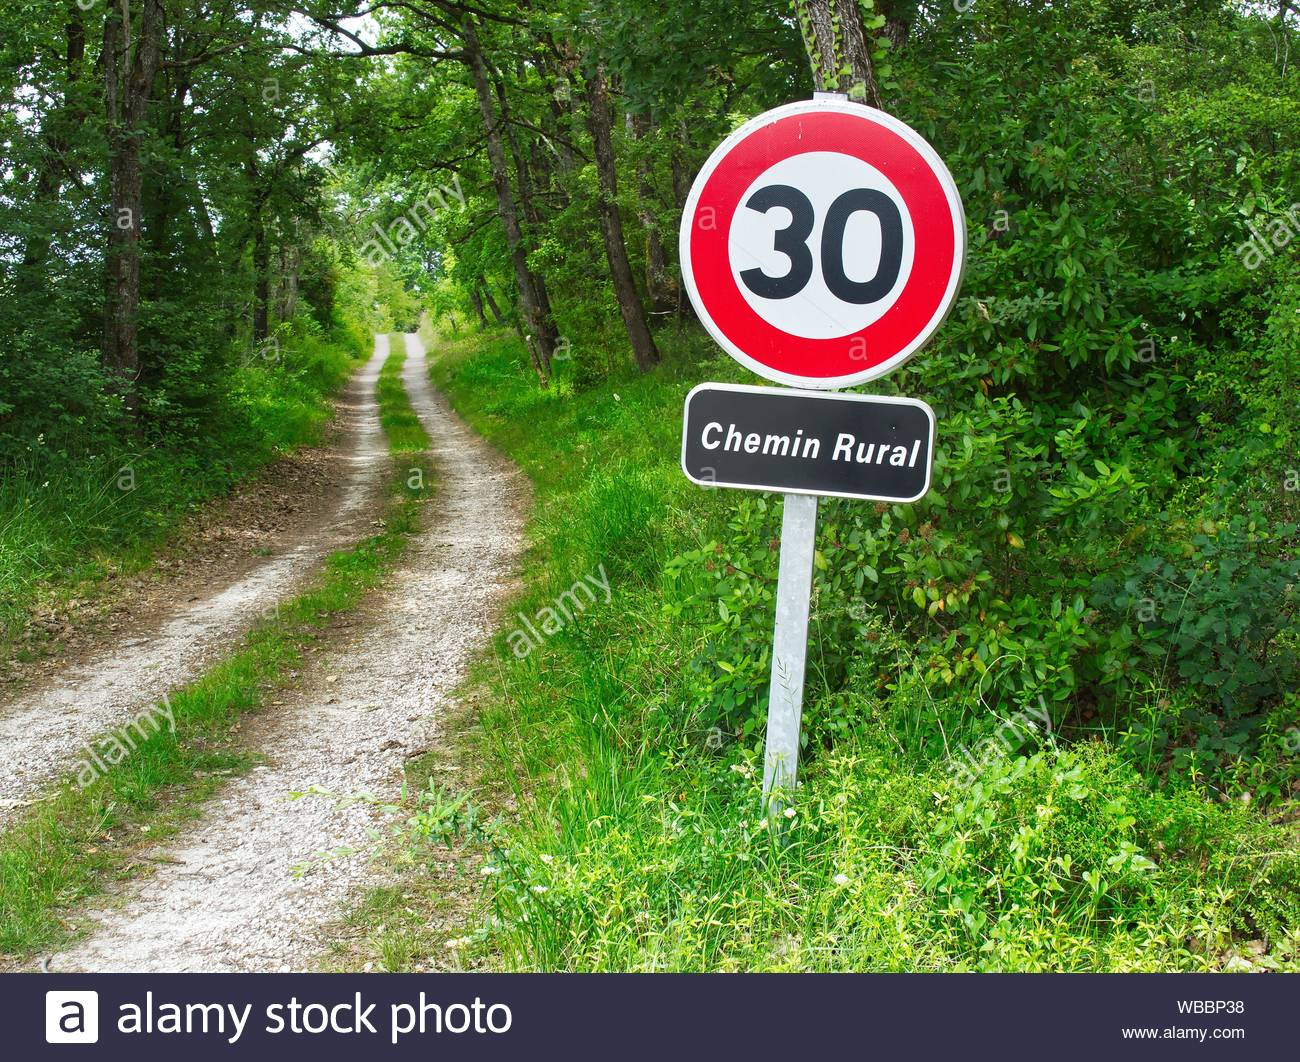speed_limit_30: (679, 98, 966, 393)
